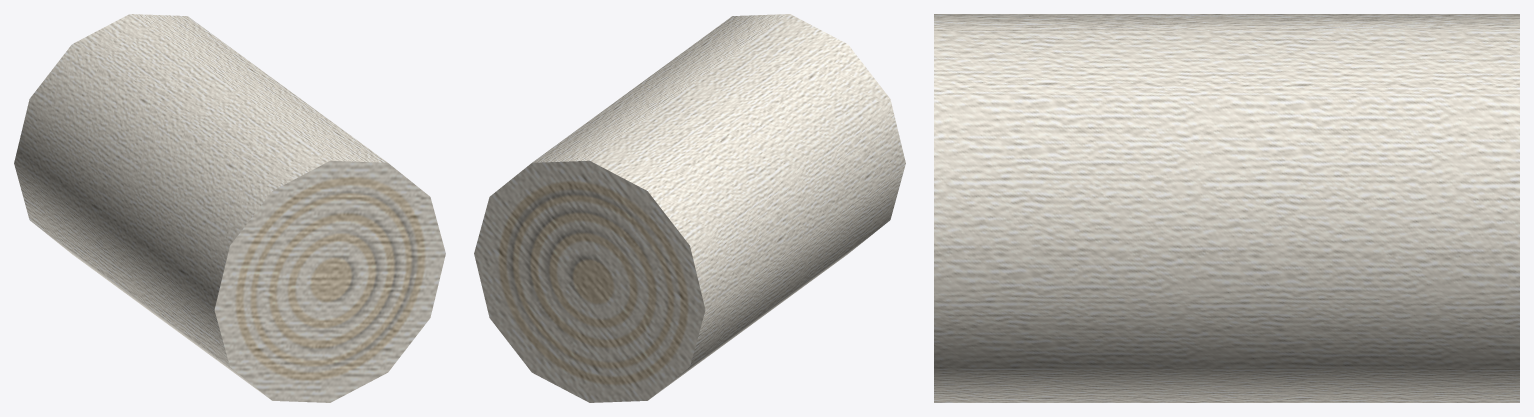
The model's file is item_bandage.fbx.
3 views of the same model, side by side, from view 1: azimuth 30°, elevation 25°; view 2: azimuth 150°, elevation 25°; view 3: azimuth 270°, elevation 25° (orthographic). The views are drawn at different scales.
Parts seen in each view (by area): view 1: Cylinder001; view 2: Cylinder001; view 3: Cylinder001.
Part boxes in pixels (bbox=[...]): Cylinder001: bbox=[14, 14, 445, 402]; Cylinder001: bbox=[474, 14, 905, 402]; Cylinder001: bbox=[934, 14, 1519, 402].
Size of the model in its own units: 40 by 40 by 60.
Materials: 1 (1 with a texture image).
